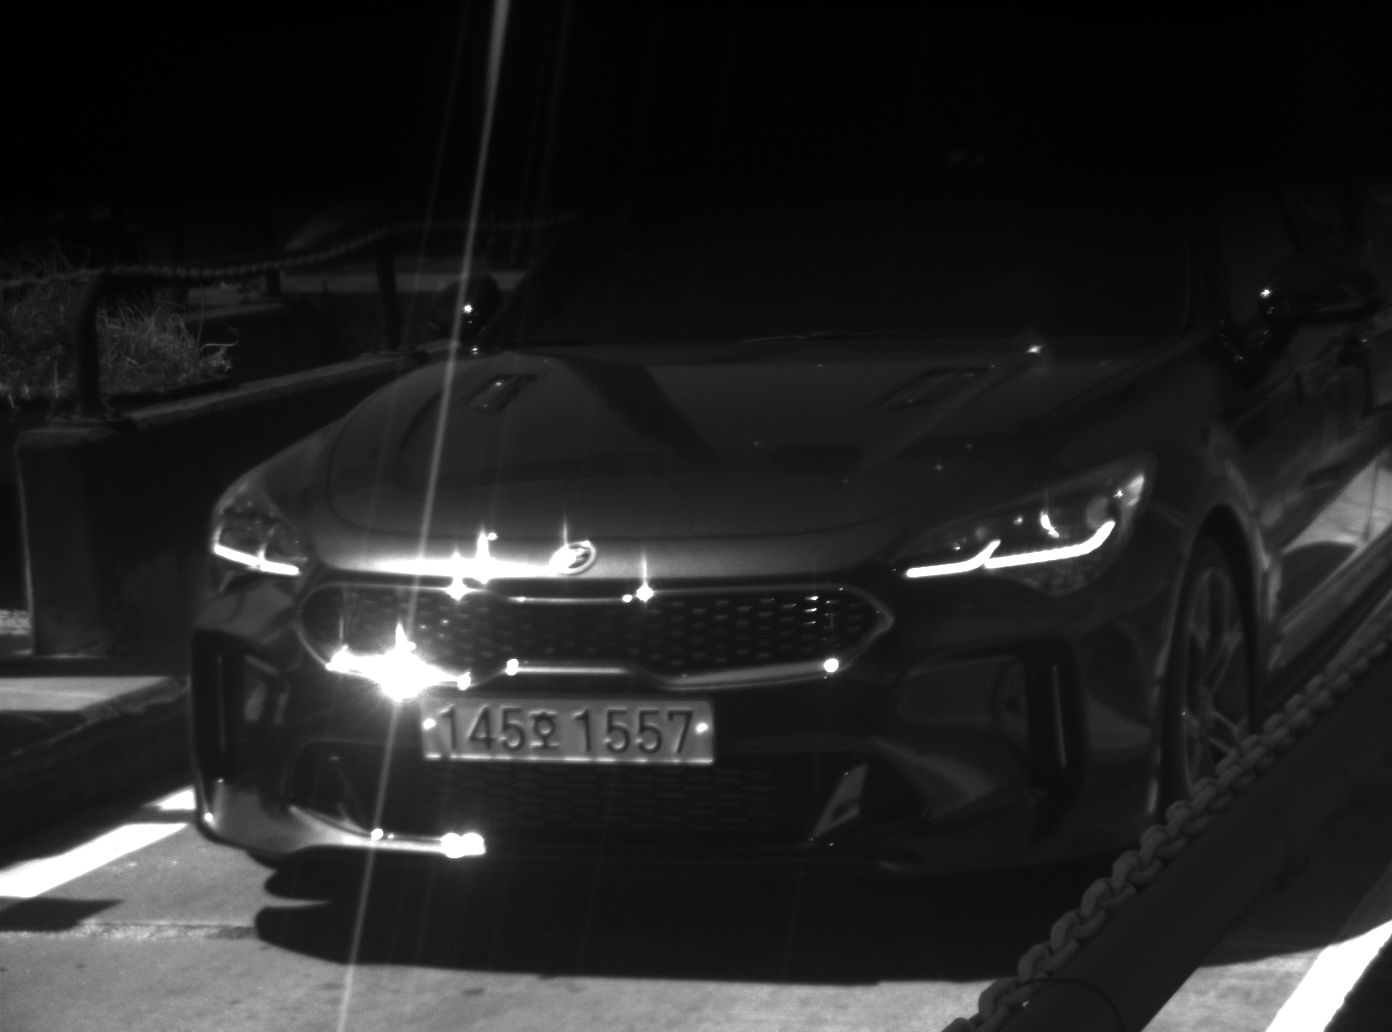car: (179, 232, 1392, 881)
plate: (412, 688, 718, 769)
